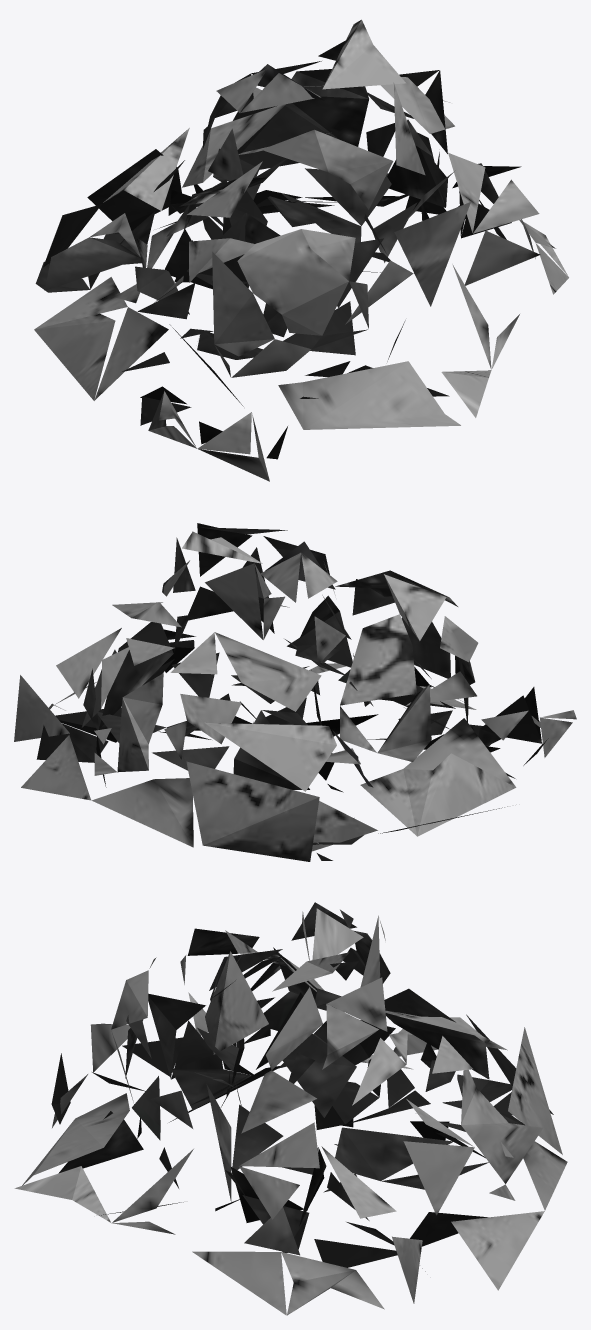
File: rock_small.glb
The picture shows the model from 3 angles, top to bottom: view 1: azimuth 30°, elevation 25°; view 2: azimuth 150°, elevation 25°; view 3: azimuth 270°, elevation 25°; orthographic projection. The views are drawn at different scales.
Parts seen in each view (by area): view 1: geometry_0; view 2: geometry_0; view 3: geometry_0.
Part boxes in pixels (x1=…): geometry_0: x1=34, y1=19, x2=568, y2=481; geometry_0: x1=14, y1=523, x2=576, y2=861; geometry_0: x1=14, y1=902, x2=567, y2=1315.
Size of the model in its own units: 0.986 by 0.5441 by 0.8864.
1 material, 1 textured.
